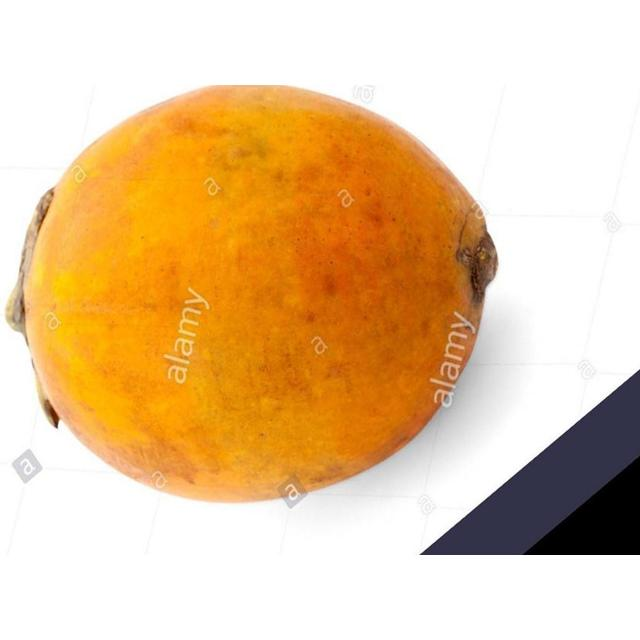good: (6, 85, 499, 506)
